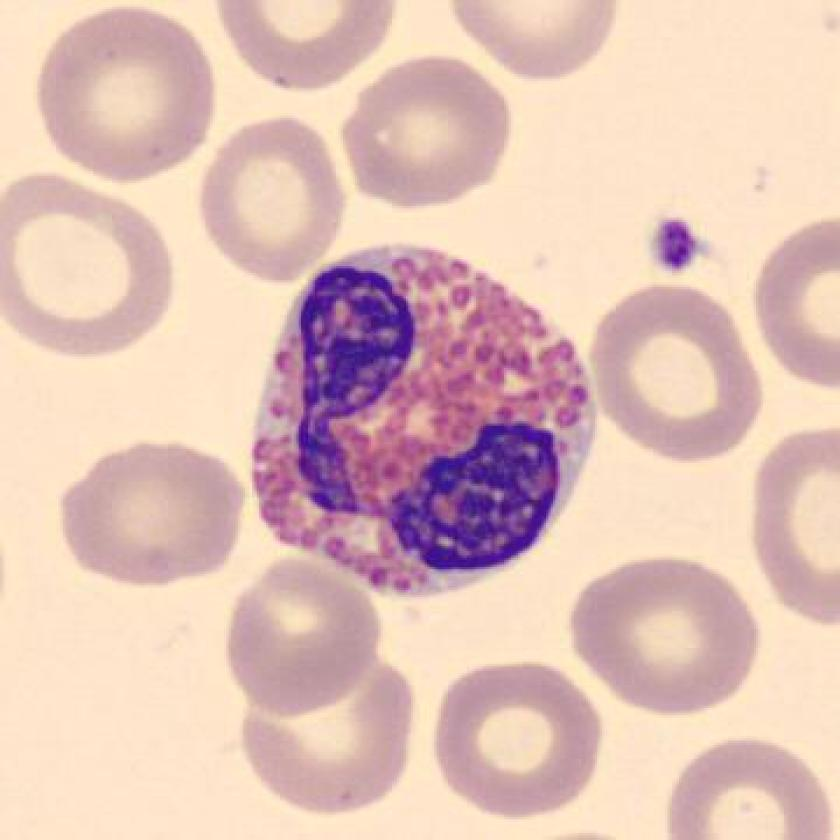eosinophil: (239, 230, 612, 605)
